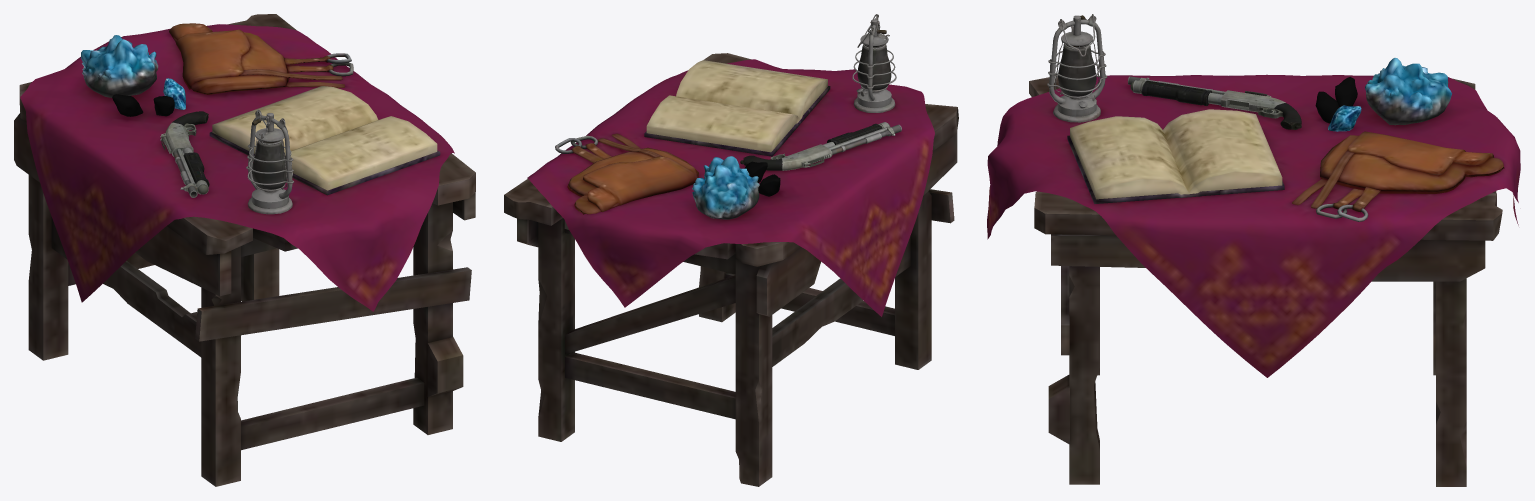
Rendered from PalSkillUnlockWorkbench_38753f.glb.
3 renders of one model, left to right at view 1: azimuth 30°, elevation 25°; view 2: azimuth 150°, elevation 25°; view 3: azimuth 270°, elevation 25°, orthographic. The views are drawn at different scales.
Size of the model in its own units: 1.22 by 1.33 by 1.69.
Materials: 3 (3 with a texture image).
